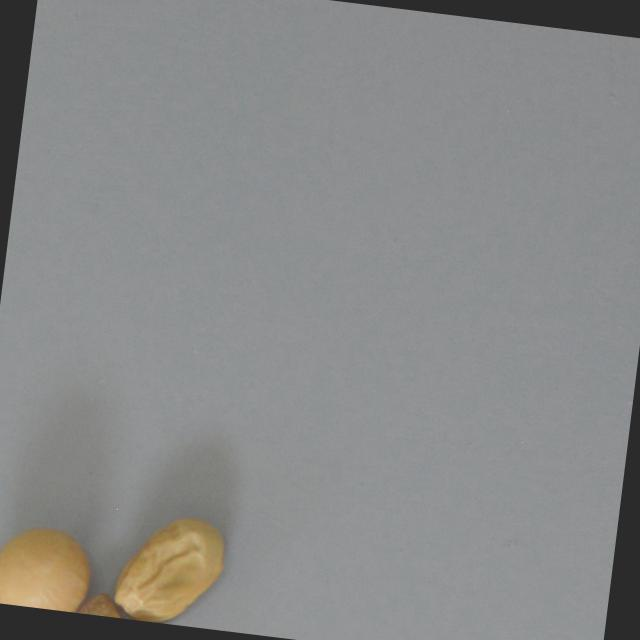cuerpos_extranos: (106, 492, 231, 630), (0, 515, 102, 614), (65, 587, 169, 624)
